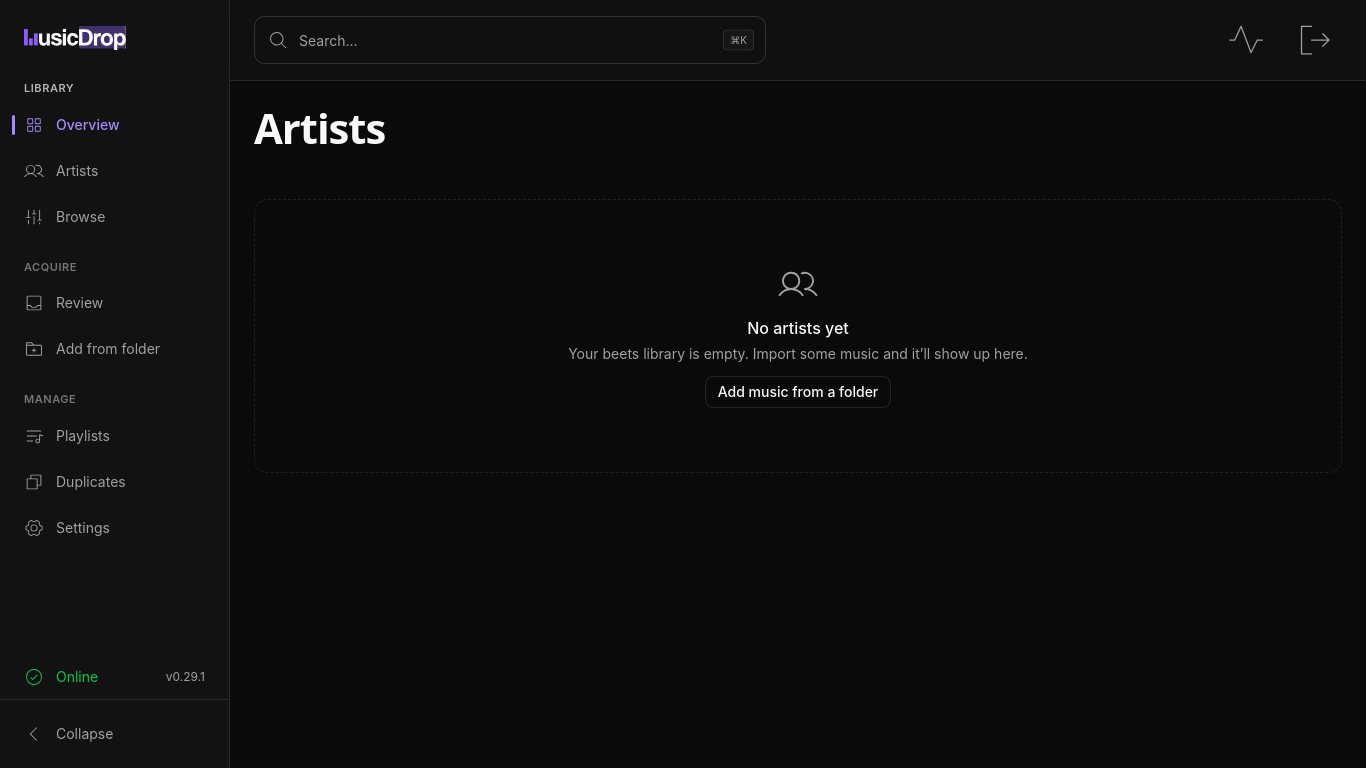
Scenario: App shell › navigation updates document.title via the shell-mounted RouteAnnouncer
The width and height of the screenshot is (1366, 768).
Click the link "Artists" at (61, 170), box [24, 160, 98, 180]
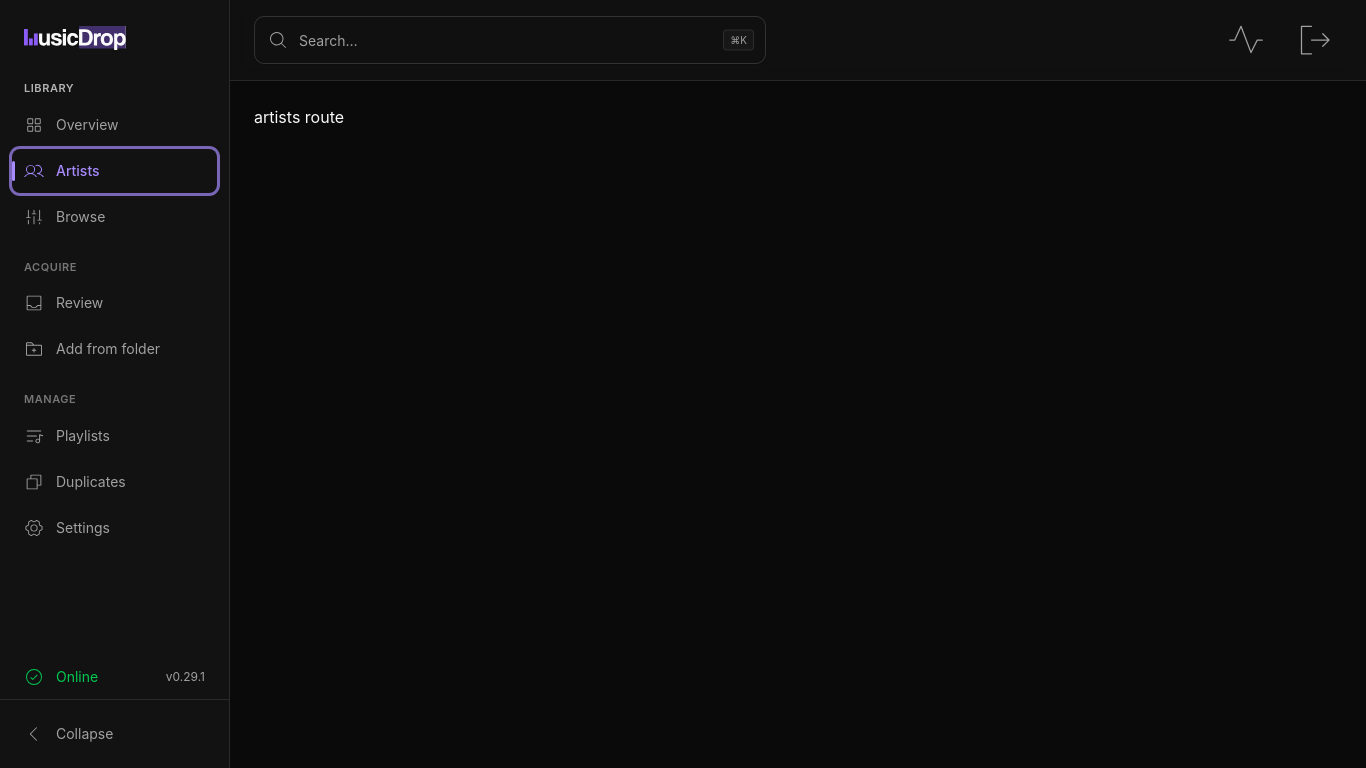
Expected: the text "artists route" is shown, [254, 107, 344, 127]
